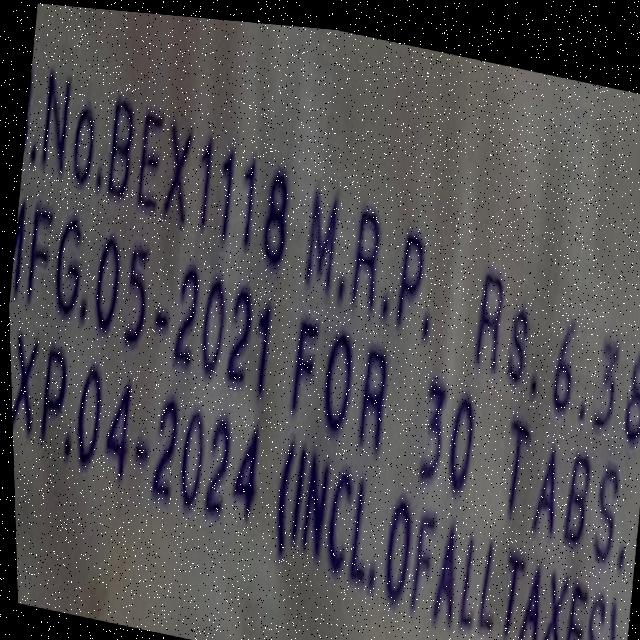sentence: (21, 63, 640, 429), (8, 200, 619, 549), (8, 323, 615, 640)
